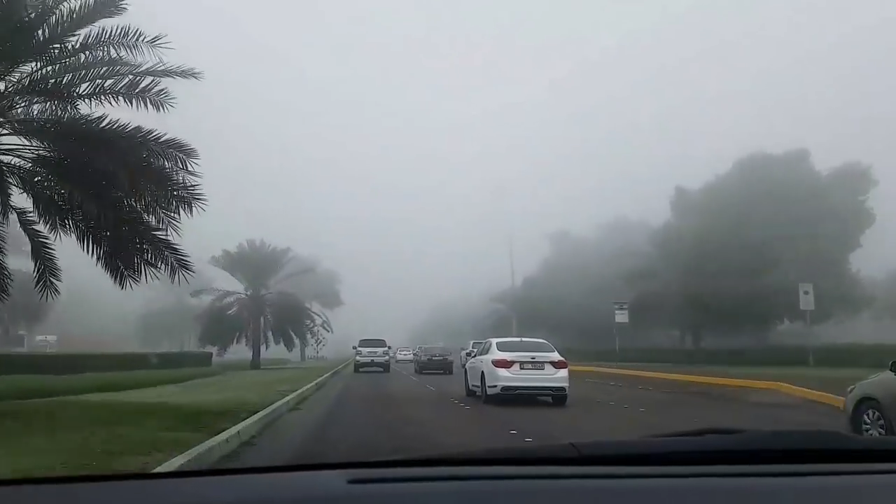car: (464, 336, 570, 405), (841, 354, 896, 439), (352, 338, 392, 374), (459, 339, 500, 369), (414, 345, 455, 374), (394, 347, 415, 362)
